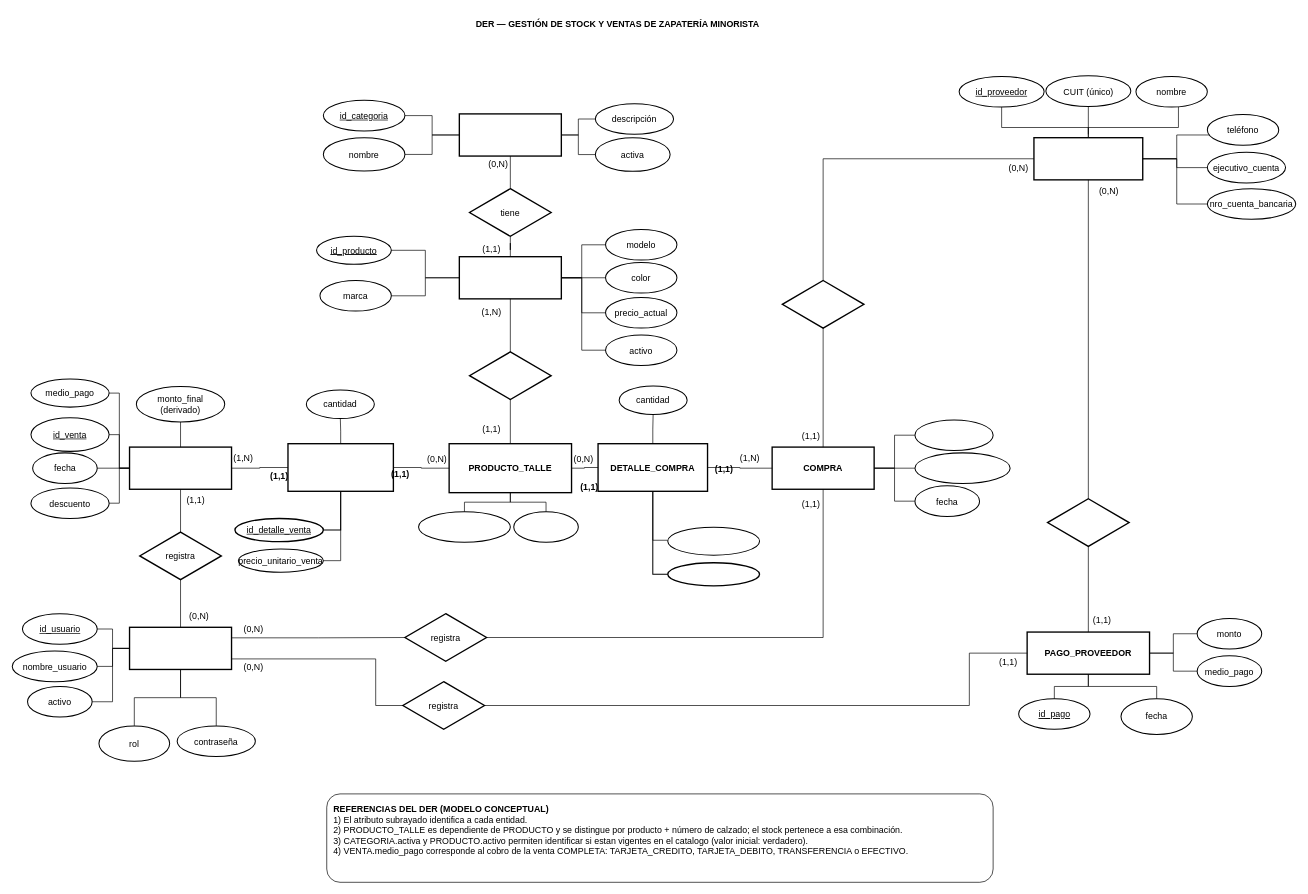
The diagram is 1308 pixels wide and 894 high, and some of its shapes have lost their labels. The centre of each missing label's shape, as x and y in pixels:
abastece: (x=822, y=303)
CATEGORÍA: (x=510, y=134)
DETALLE_VENTA: (x=340, y=467)
id_compra: (x=953, y=435)
id_detalle_compra: (x=713, y=574)
nro_comprobante: (x=962, y=468)
numero_calzado: (x=464, y=527)
precio_unitario_compra: (x=713, y=540)
PRODUCTO: (x=510, y=277)
PROVEEDOR: (x=1088, y=158)
recibe: (x=1088, y=522)
stock: (x=546, y=527)
tiene talle: (x=510, y=375)
USUARIO: (x=180, y=648)
VENTA: (x=180, y=468)
